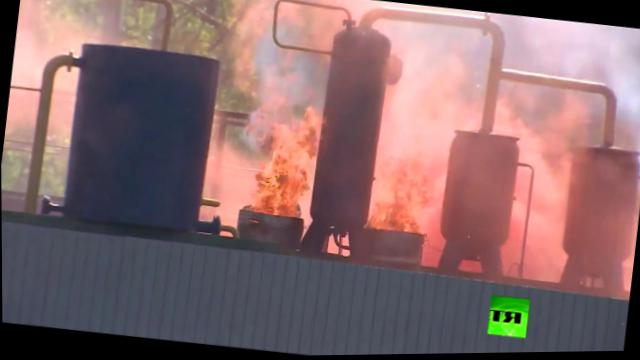fire: (366, 158, 434, 237), (250, 137, 311, 216)
